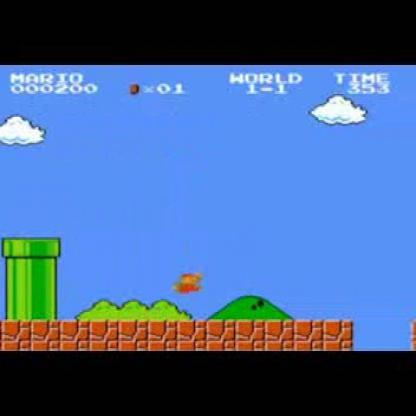Hoyo: (347, 315, 415, 351)
